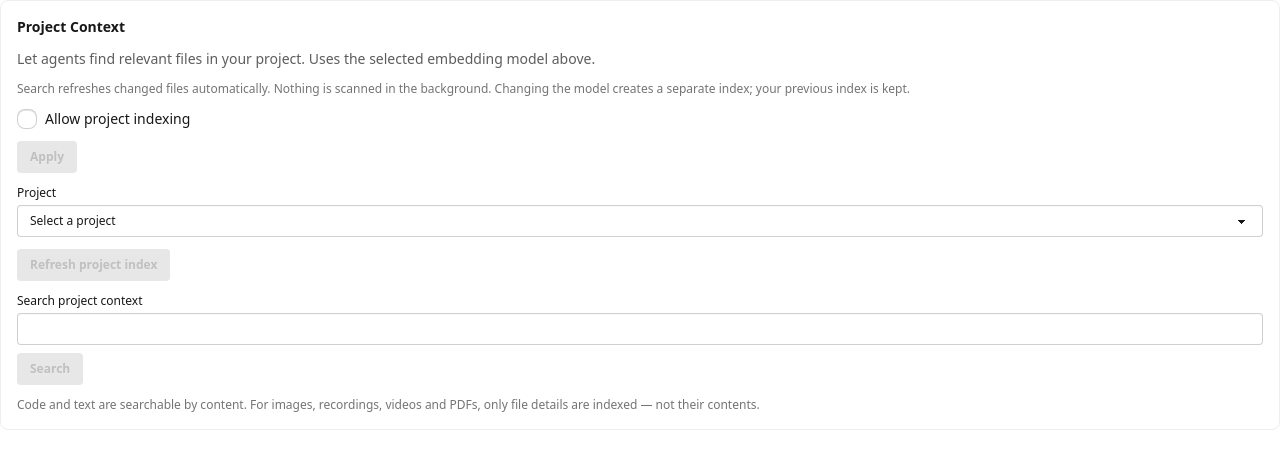
Test: ProjectContextCard › keeps the second StrictMode load authoritative even if the first resolves after editing
This screenshot has width=1280, height=475.
Click the checkbox labelled "Allow project indexing" at (27, 119), box [17,109,37,129]
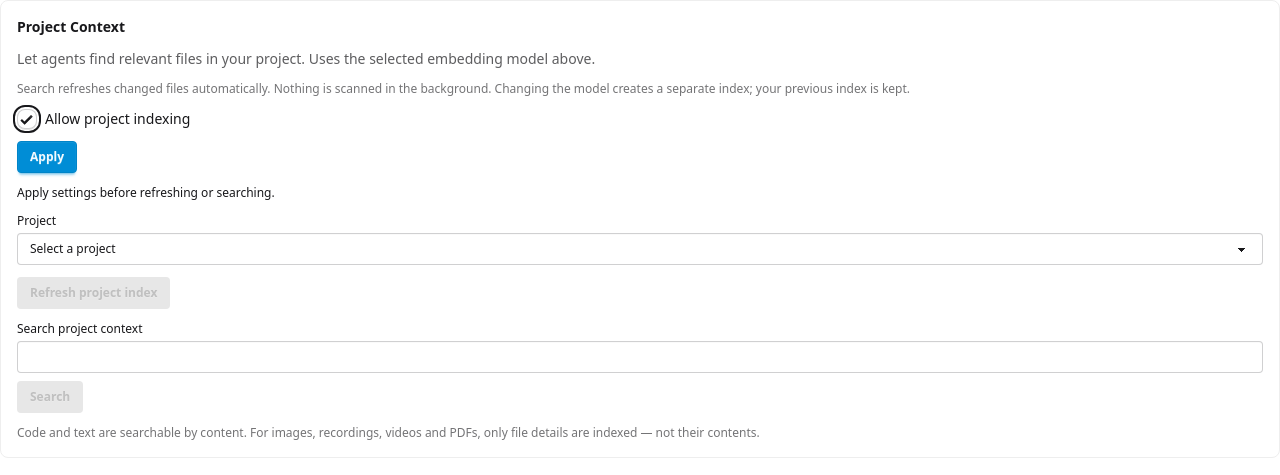
Check: the checkbox labelled "Allow project indexing" is checked, box [17,109,37,129]
Check: the button "Apply" is enabled, box [17,141,77,173]
